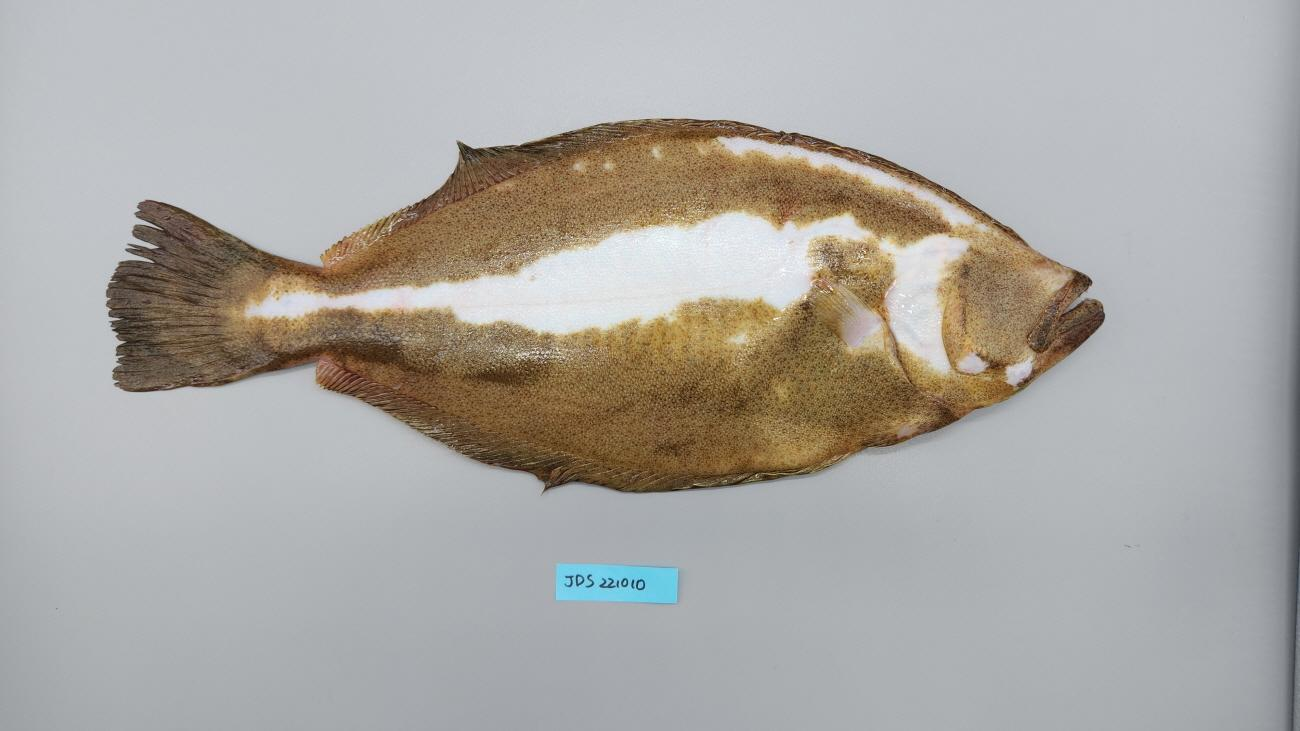VIFAH: (313, 360, 512, 445)
VIFCH: (132, 198, 203, 236)
VIFCN: (104, 197, 203, 344)
VIOUY: (104, 119, 1104, 495)
